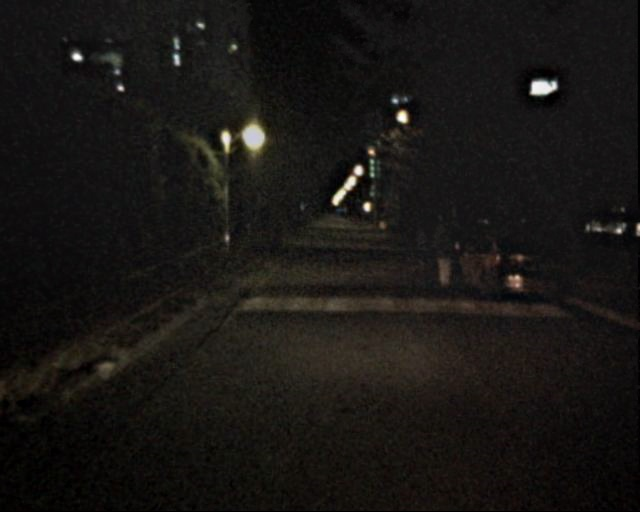person: (431, 227, 457, 291), (411, 226, 432, 276), (428, 221, 449, 271)
